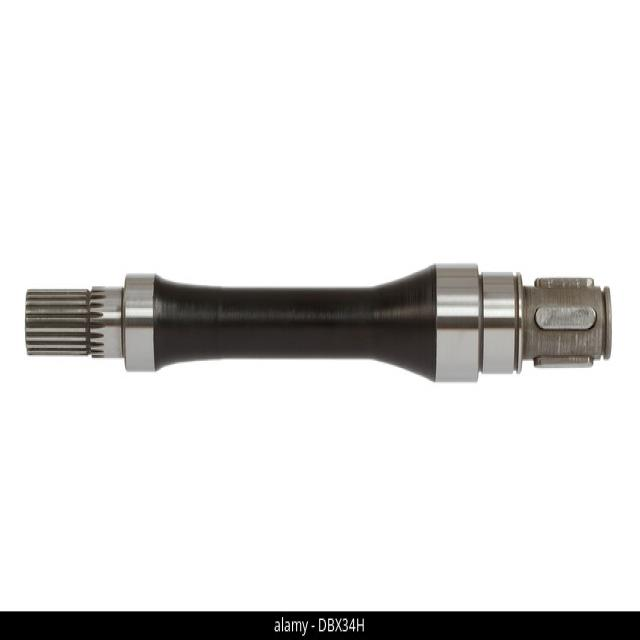Gear: (23, 283, 91, 362)
